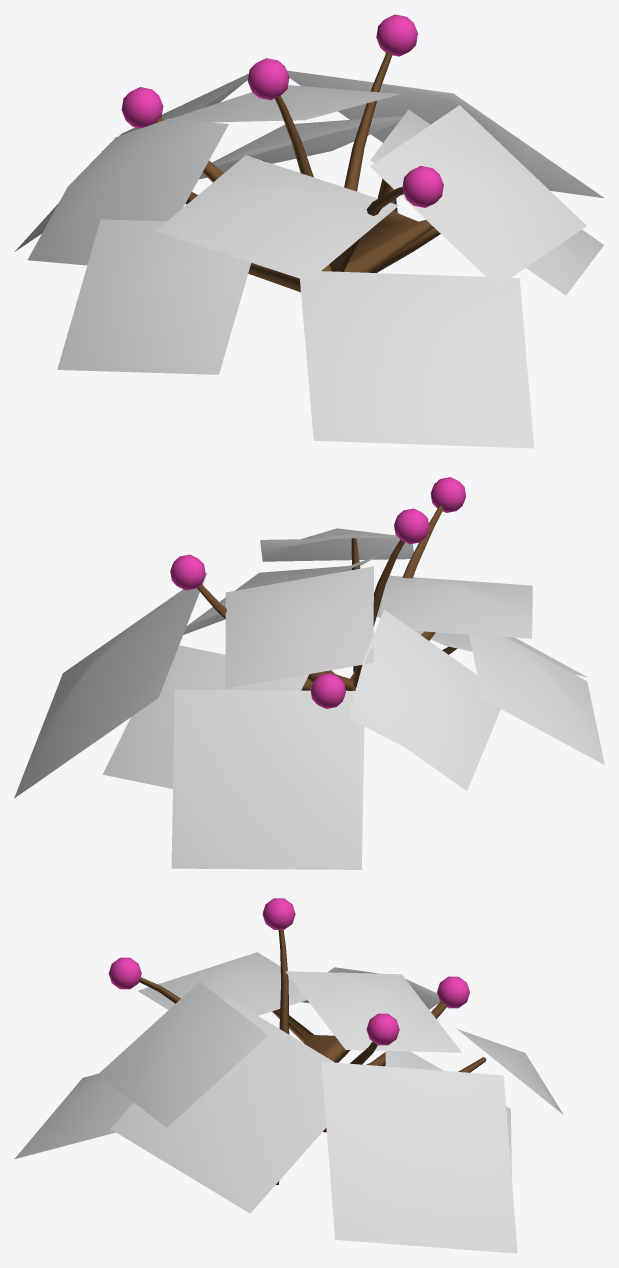
Rendered from FlatFern.fbx.
The picture shows the model from 3 angles, top to bottom: view 1: azimuth 30°, elevation 25°; view 2: azimuth 150°, elevation 25°; view 3: azimuth 270°, elevation 25°; orthographic projection. The views are drawn at different scales.
Parts seen in each view (by area): view 1: Plane.000, Plane.002, Plane.008, Plane.006, Plane.005, Plane.004, Plane.007, Cube, Plane.024, Plane.001, Cylinder.002, Plane.003 (+6 smaller); view 2: Plane.003, Plane.005, Plane.007, Plane.004, Plane.002, Plane.006, Plane.024, Plane.008, Plane.001, Icosphere, Icosphere.003, Icosphere.002 (+6 smaller); view 3: Plane.004, Plane.001, Plane.008, Plane.007, Plane.006, Plane.000, Plane.003, Cube, Plane.024, Icosphere.001, Icosphere, Icosphere.002 (+3 smaller).
Part boxes in pixels (left/top/right/bottom): Plane.000: left=300, top=271, right=534, bottom=448; Plane.002: left=57, top=219, right=251, bottom=374; Plane.008: left=370, top=105, right=586, bottom=287; Plane.006: left=155, top=155, right=398, bottom=281; Plane.005: left=27, top=118, right=228, bottom=265; Plane.004: left=287, top=70, right=604, bottom=198; Plane.007: left=157, top=85, right=399, bottom=123; Cube: left=185, top=160, right=440, bottom=292; Plane.024: left=199, top=116, right=403, bottom=179; Plane.001: left=370, top=109, right=603, bottom=295; Cylinder.002: left=344, top=52, right=392, bottom=191; Plane.003: left=14, top=73, right=248, bottom=251; Plane.003: left=171, top=689, right=364, bottom=869; Plane.005: left=348, top=609, right=500, bottom=790; Plane.007: left=225, top=566, right=373, bottom=688; Plane.004: left=14, top=572, right=207, bottom=798; Plane.002: left=469, top=634, right=604, bottom=764; Plane.006: left=380, top=575, right=532, bottom=638; Plane.024: left=102, top=645, right=308, bottom=788; Plane.008: left=260, top=528, right=413, bottom=561; Plane.001: left=183, top=554, right=380, bottom=634; Icosphere: left=170, top=554, right=205, bottom=590; Icosphere.003: left=310, top=673, right=345, bottom=708; Icosphere.002: left=394, top=508, right=429, bottom=544; Plane.004: left=321, top=1061, right=517, bottom=1253; Plane.001: left=110, top=997, right=334, bottom=1213; Plane.008: left=98, top=982, right=268, bottom=1127; Plane.007: left=285, top=971, right=461, bottom=1052; Plane.006: left=138, top=952, right=306, bottom=1015; Plane.000: left=14, top=1073, right=133, bottom=1159; Plane.003: left=456, top=1028, right=563, bottom=1114; Cube: left=272, top=1009, right=486, bottom=1184; Plane.024: left=385, top=1051, right=511, bottom=1176; Icosphere.001: left=108, top=957, right=141, bottom=989; Icosphere: left=366, top=1013, right=399, bottom=1045; Icosphere.002: left=262, top=898, right=295, bottom=929.
Size of the model in its own units: 87.01 by 45.15 by 96.65.
